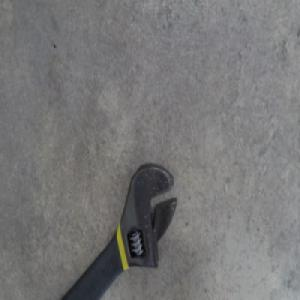AdjustableWrench: (63, 161, 179, 298)
